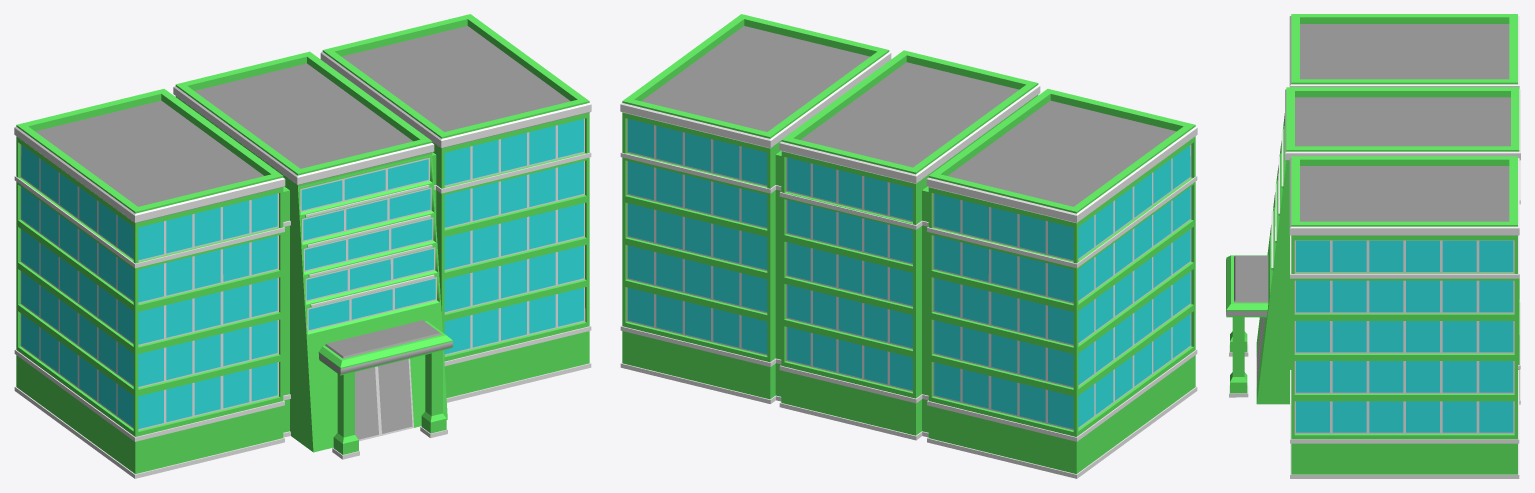
The model's file is SM_House_11_03.FBX.
The picture shows the model from 3 angles, left to right: view 1: azimuth 30°, elevation 25°; view 2: azimuth 150°, elevation 25°; view 3: azimuth 270°, elevation 25°; orthographic projection. The views are drawn at different scales.
Parts seen in each view (by area): view 1: SM_House_11_03; view 2: SM_House_11_03; view 3: SM_House_11_03.
Part boxes in pixels (bbox=[...]): SM_House_11_03: bbox=[14, 14, 591, 478]; SM_House_11_03: bbox=[620, 14, 1197, 478]; SM_House_11_03: bbox=[1226, 14, 1520, 478].
Bounding box in the file's own units: 11.71 × 6.55 × 6.88.
1 material, 1 textured.
